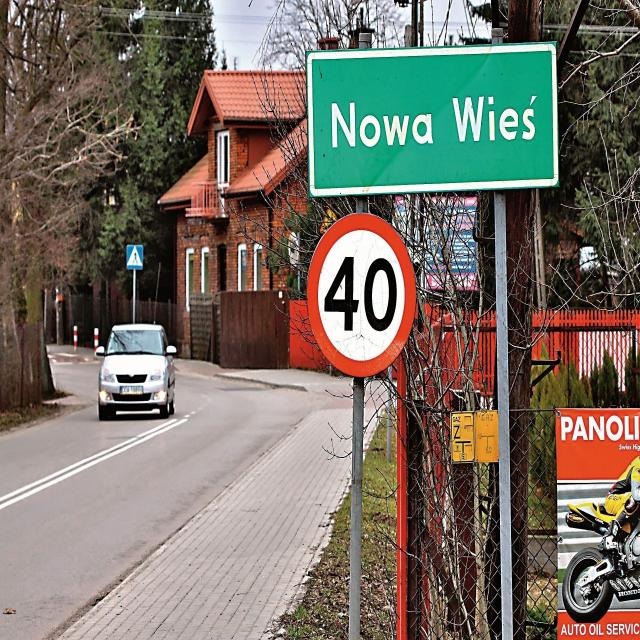Speed Limit -40-: (323, 255, 398, 333)
